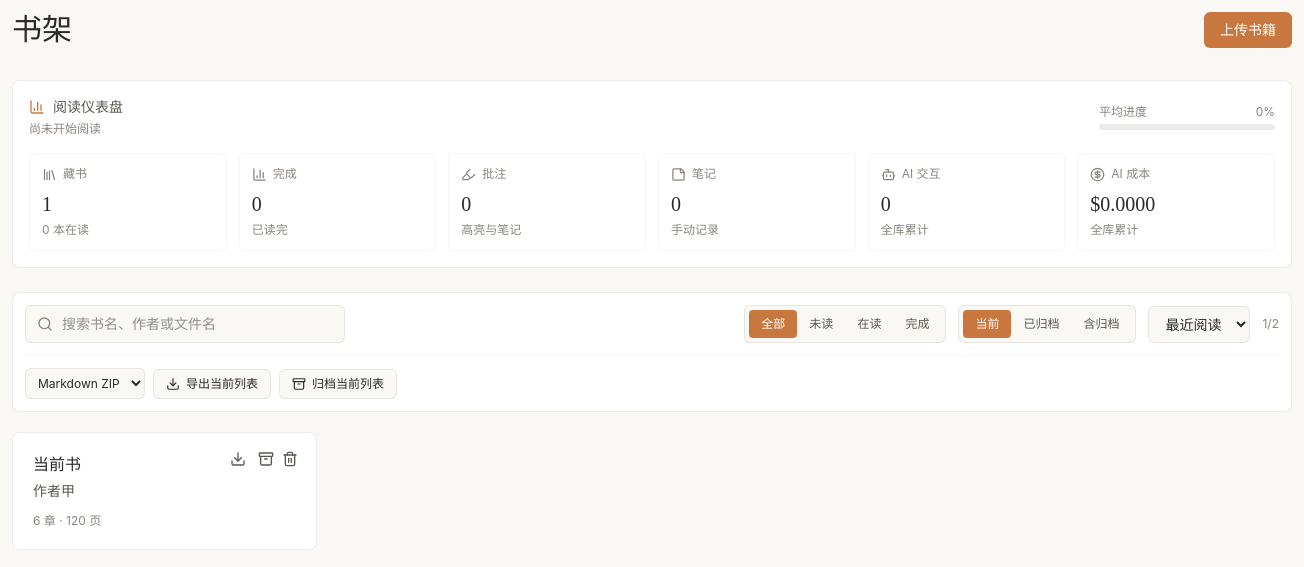
Test: BookList › announces archive failures and restores the bulk action button
The image size is (1304, 567).
Click the button with aria-label "归档当前列表，共 1 本" at (338, 384), box [279,368,397,398]
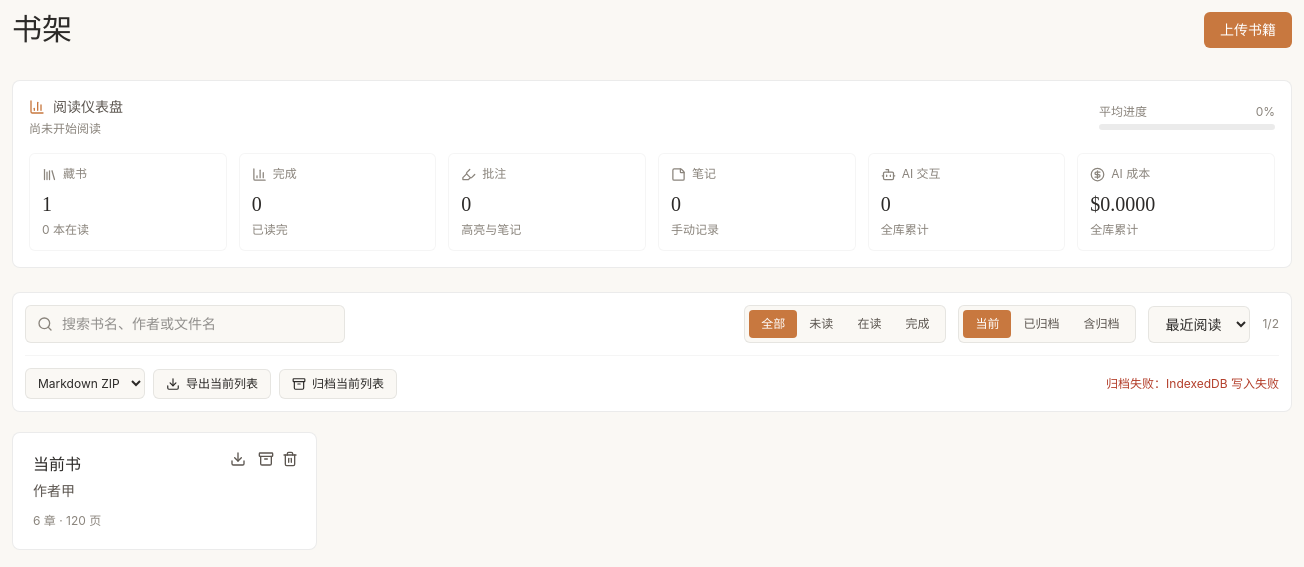
expect the message "归档失败：IndexedDB 写入失败" is shown: met, box [1106,376,1279,392]
